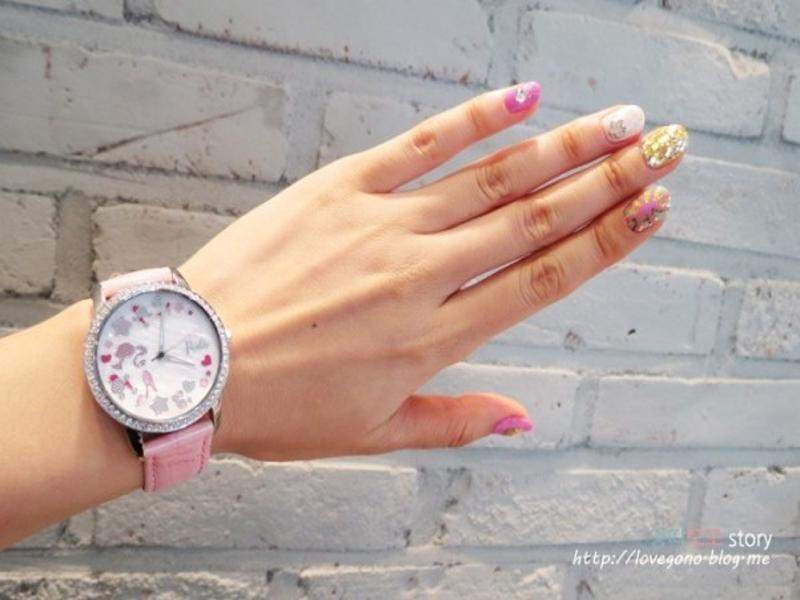watch: (80, 263, 236, 492)
